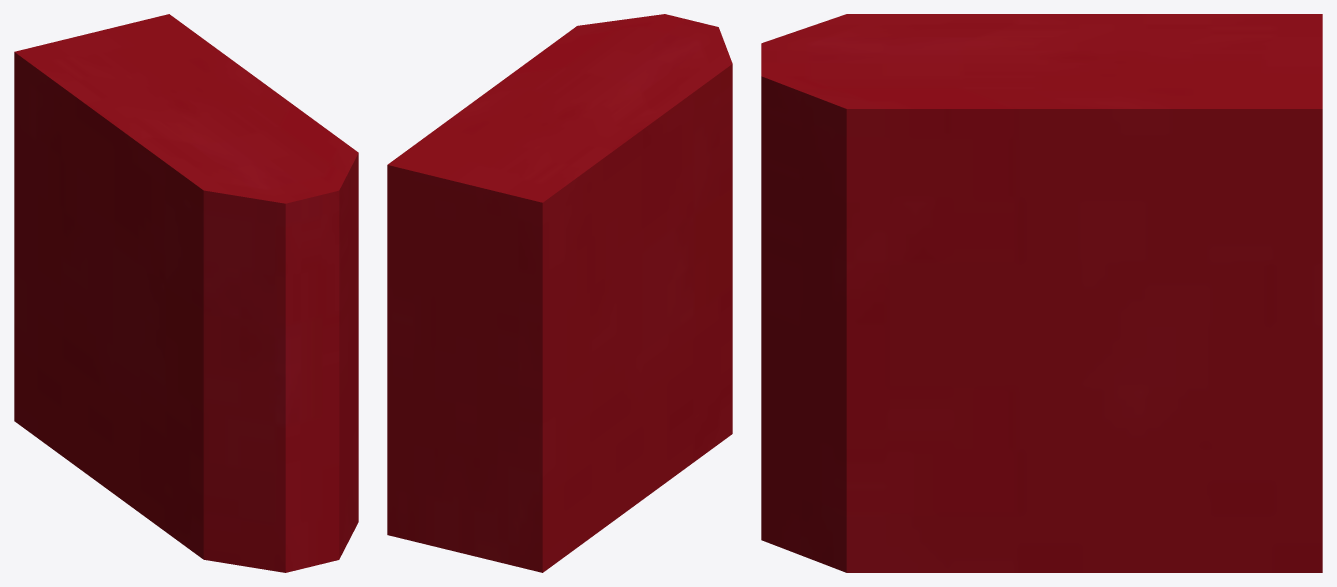
The model's file is RedShelfThing.fbx.
3 renders of one model, left to right at view 1: azimuth 30°, elevation 25°; view 2: azimuth 150°, elevation 25°; view 3: azimuth 270°, elevation 25°, orthographic. The views are drawn at different scales.
Visible parts, largest first — view 1: Cube; view 2: Cube; view 3: Cube.
Part boxes in pixels (x1,y1,x2,y2): Cube: (14,14,358,572); Cube: (387,14,732,572); Cube: (761,14,1322,572).
Bounding box in the file's own units: 56.21 × 128 × 140.
